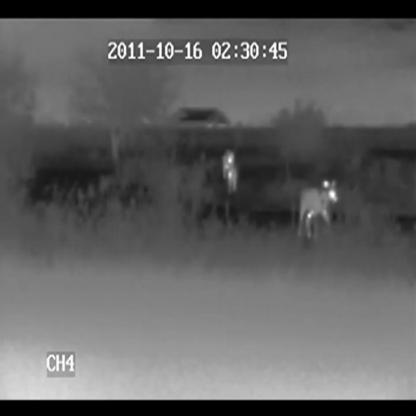rehkitze: (291, 177, 339, 235), (222, 148, 241, 197)
